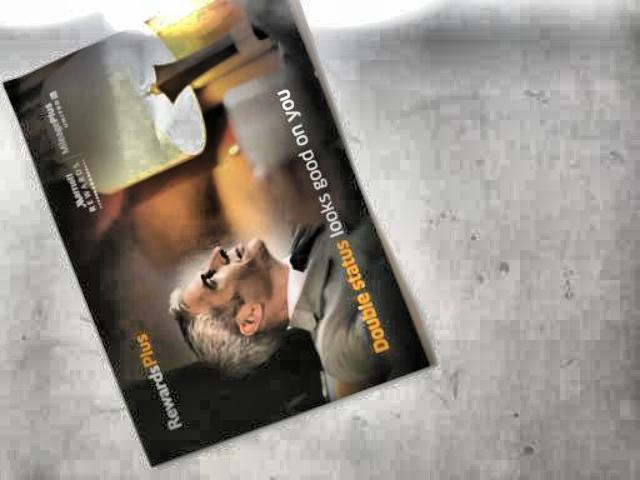Paper: (0, 0, 458, 480)
